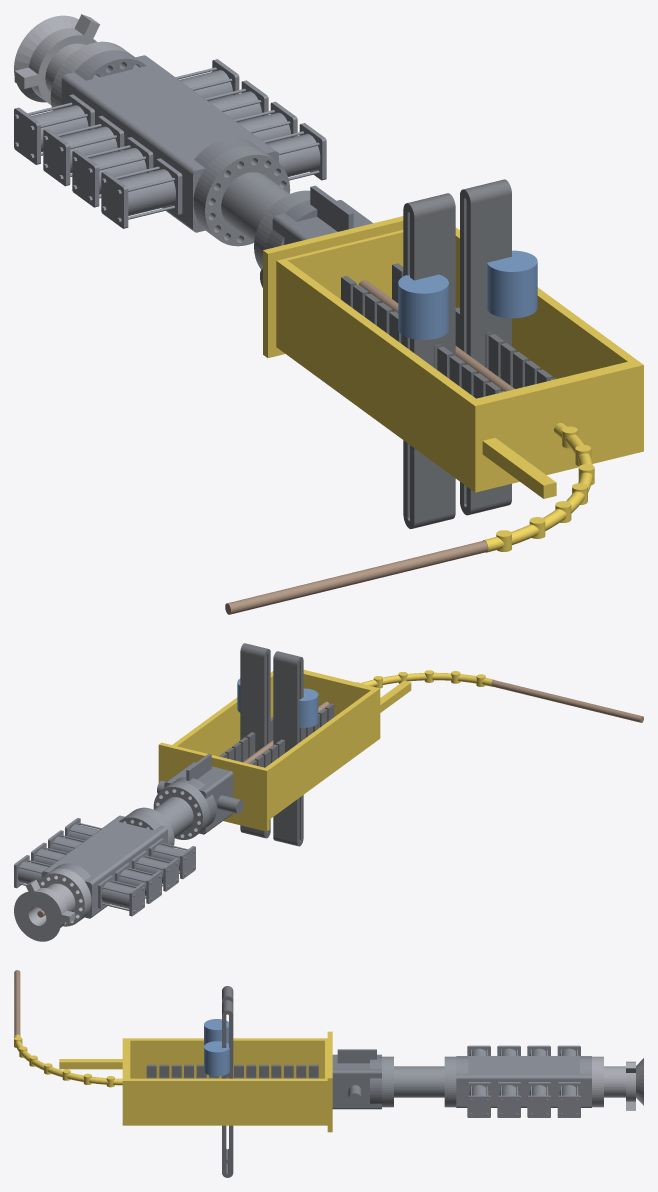
Rendered from CT-STACK.glb.
3 renders of one model, top to bottom at view 1: azimuth 30°, elevation 25°; view 2: azimuth 150°, elevation 25°; view 3: azimuth 270°, elevation 25°, orthographic. The views are drawn at different scales.
Visible parts, largest first — view 1: CT-STACK-INJECTOR, CT-STACK-QUADBOP, CT-STACK-CHAIN, CT-STACK-RISER, CT-STACK-MOTOR, CT-STACK-BOTTOMADAPTER, CT-STACK-GOOSENECK, CT-STACK-COIL, CT-STACK-STRIPPER; view 2: CT-STACK-INJECTOR, CT-STACK-QUADBOP, CT-STACK-CHAIN, CT-STACK-BOTTOMADAPTER, CT-STACK-RISER, CT-STACK-STRIPPER, CT-STACK-GOOSENECK, CT-STACK-COIL, CT-STACK-MOTOR; view 3: CT-STACK-INJECTOR, CT-STACK-QUADBOP, CT-STACK-CHAIN, CT-STACK-STRIPPER, CT-STACK-RISER, CT-STACK-BOTTOMADAPTER, CT-STACK-GOOSENECK, CT-STACK-MOTOR, CT-STACK-COIL.
Boxes of the visible parts, bbox=[...] form: CT-STACK-INJECTOR: bbox=[263, 216, 643, 492]; CT-STACK-QUADBOP: bbox=[14, 50, 326, 232]; CT-STACK-CHAIN: bbox=[341, 179, 555, 528]; CT-STACK-RISER: bbox=[193, 146, 310, 269]; CT-STACK-MOTOR: bbox=[398, 250, 537, 339]; CT-STACK-BOTTOMADAPTER: bbox=[14, 14, 130, 110]; CT-STACK-GOOSENECK: bbox=[482, 423, 594, 552]; CT-STACK-COIL: bbox=[225, 279, 514, 614]; CT-STACK-STRIPPER: bbox=[260, 185, 372, 287]; CT-STACK-INJECTOR: bbox=[158, 670, 380, 831]; CT-STACK-QUADBOP: bbox=[14, 812, 195, 918]; CT-STACK-CHAIN: bbox=[219, 643, 334, 846]; CT-STACK-BOTTOMADAPTER: bbox=[14, 868, 91, 941]; CT-STACK-RISER: bbox=[128, 782, 209, 847]; CT-STACK-STRIPPER: bbox=[157, 753, 243, 834]; CT-STACK-GOOSENECK: bbox=[356, 670, 493, 712]; CT-STACK-COIL: bbox=[37, 680, 643, 917]; CT-STACK-MOTOR: bbox=[237, 678, 318, 727]; CT-STACK-INJECTOR: bbox=[122, 1031, 332, 1132]; CT-STACK-QUADBOP: bbox=[456, 1045, 591, 1117]; CT-STACK-CHAIN: bbox=[146, 986, 318, 1177]; CT-STACK-STRIPPER: bbox=[332, 1049, 381, 1109]; CT-STACK-RISER: bbox=[382, 1056, 456, 1107]; CT-STACK-BOTTOMADAPTER: bbox=[592, 1056, 643, 1110]; CT-STACK-GOOSENECK: bbox=[14, 1034, 122, 1087]; CT-STACK-MOTOR: bbox=[204, 1019, 229, 1076]; CT-STACK-COIL: bbox=[14, 970, 20, 1035].
Size of the model in its own units: 3.19 by 1.84 by 6.27.
